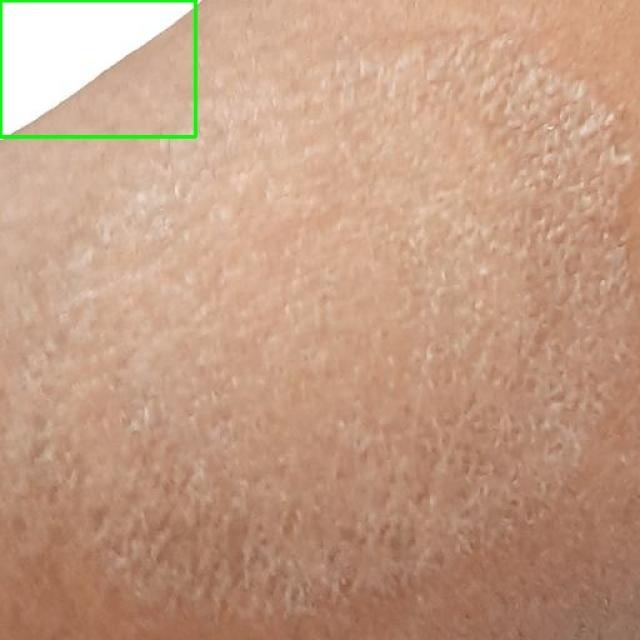Tinea Corporis: (0, 0, 196, 138)
